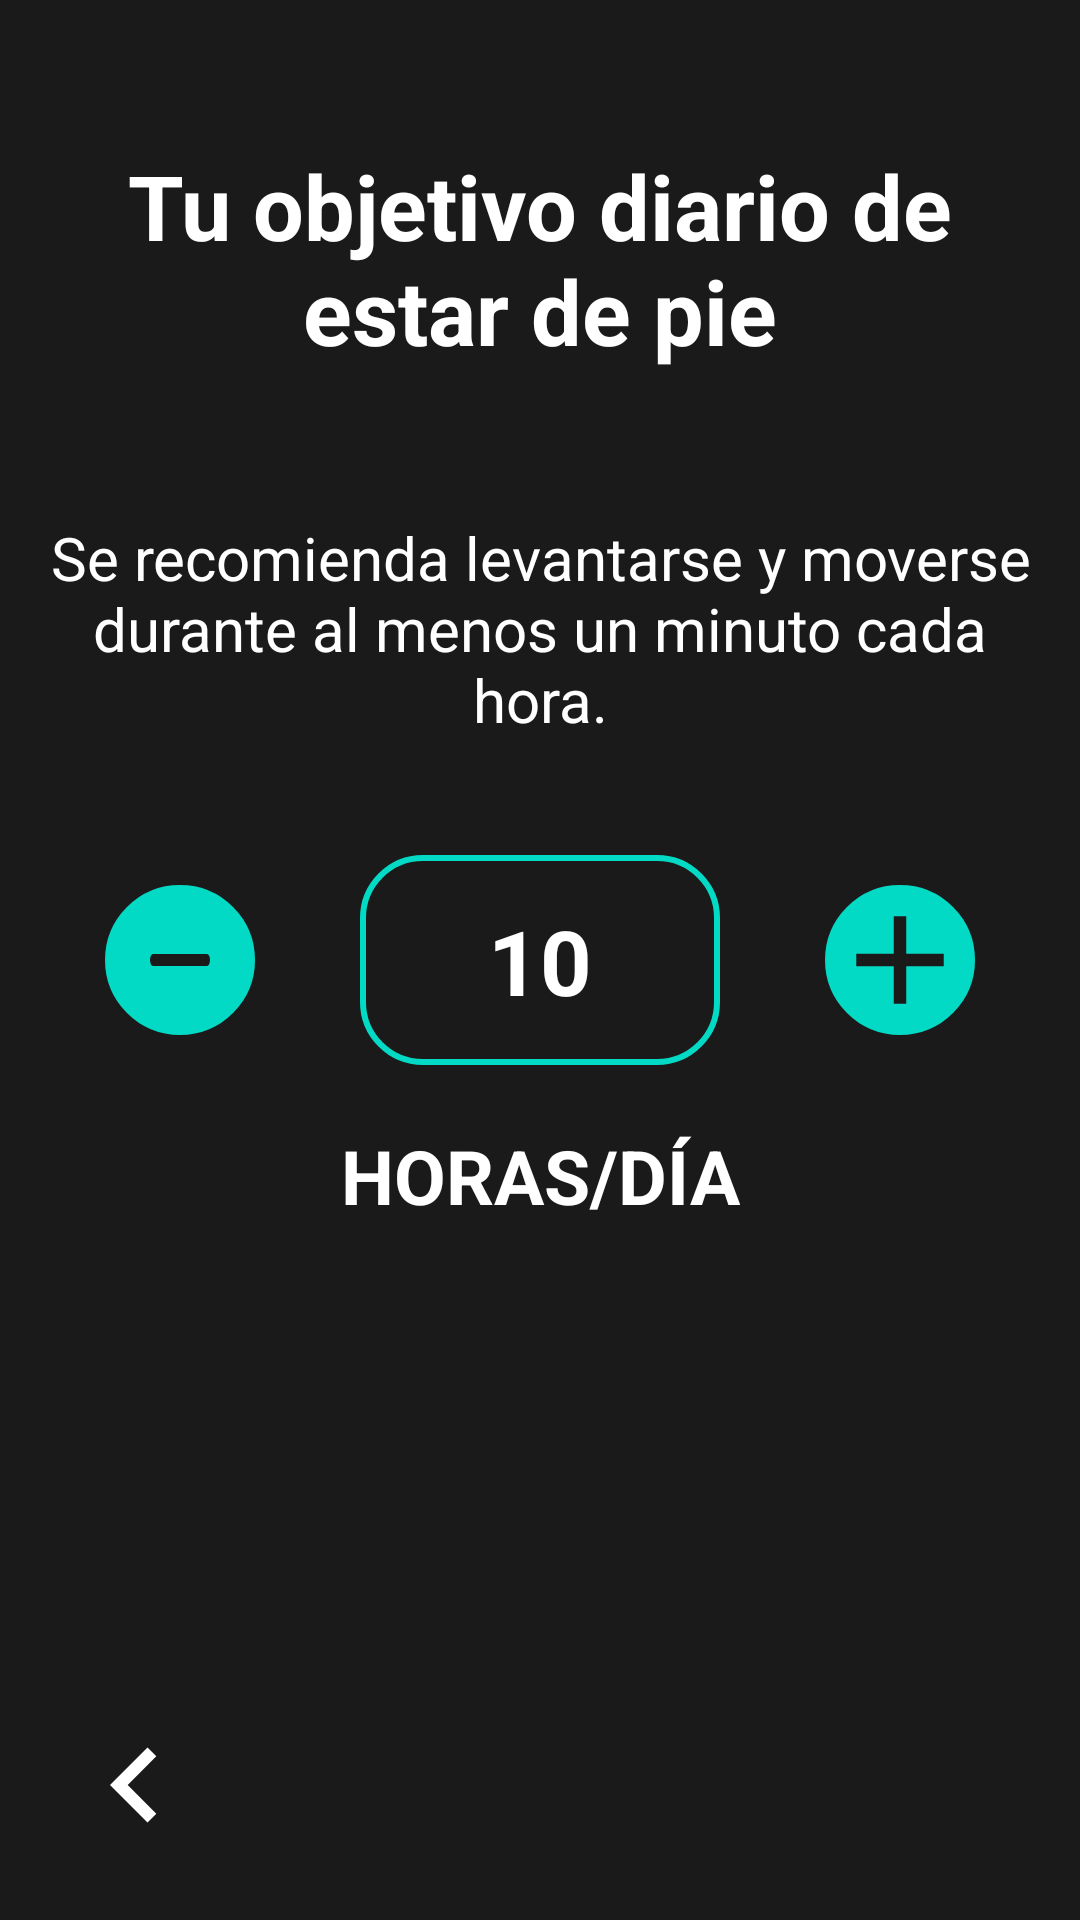

Icons on this 1080 × 1920 Android screen, each with its box as (x1, y1, x2, y2):
add: (825, 885, 975, 1035)
keyboard arrow left: (110, 1747, 156, 1823)
